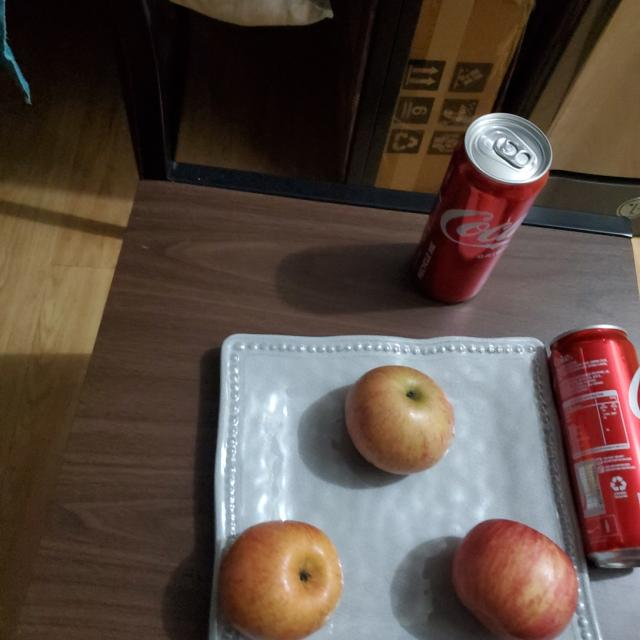apple: (451, 516, 582, 639), (217, 520, 342, 639), (343, 368, 453, 477)
coke: (412, 112, 550, 298), (548, 319, 640, 571)
